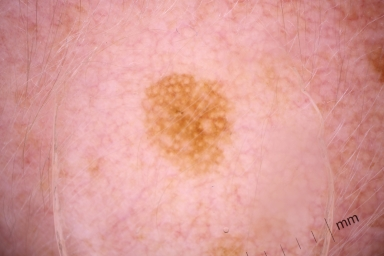melanoma: (142, 72, 230, 174)
